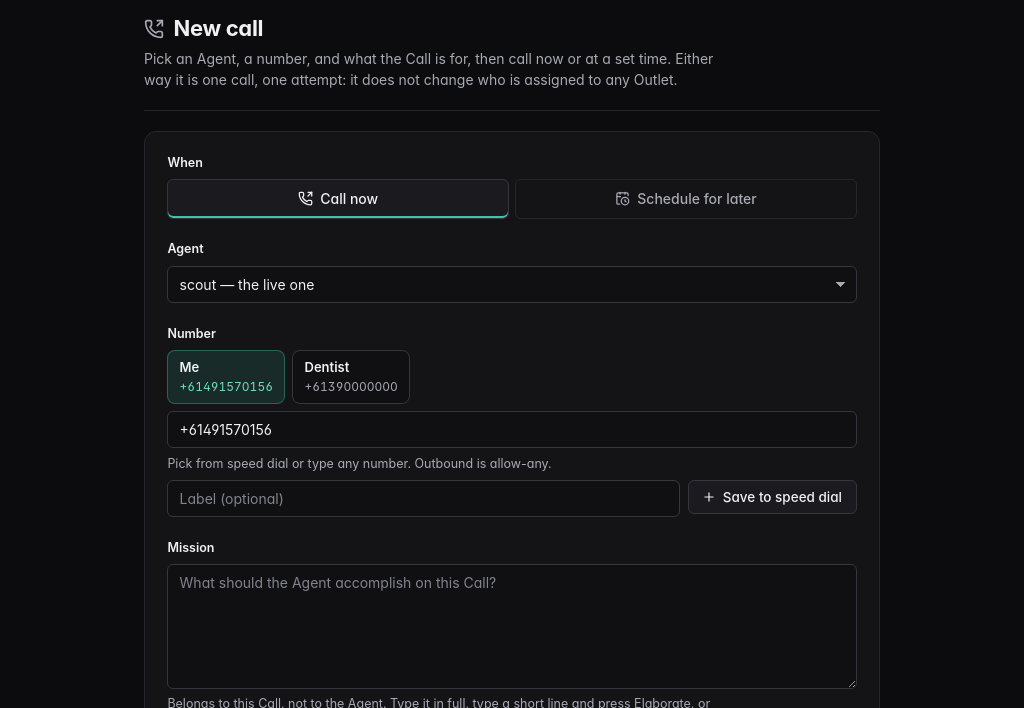
Scenario: Place a call › posts Agent, number, Mission and disclose, and does not mention a dry-run
Select "scout — the live one" in the dropdown with test id "place-agent" at (512, 284), box [167,266,857,303]
Click the button with test id "speed-dial-+61390000000" at (351, 377), box [292,350,410,404]
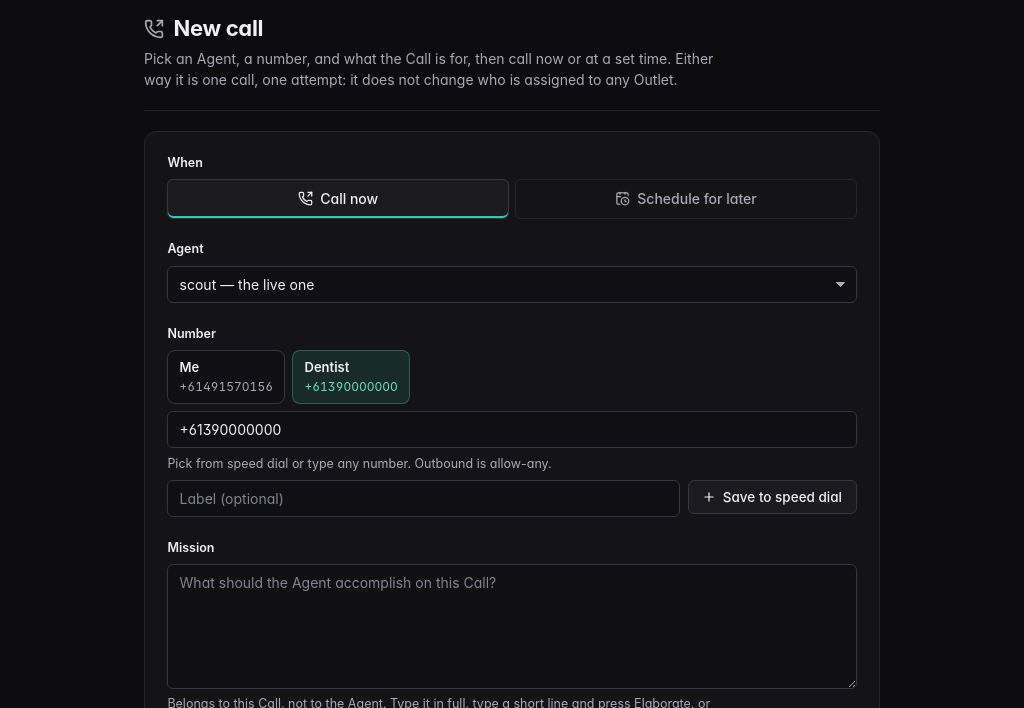
Type "Ask if Friday still works." into the text box with test id "place-mission" at (512, 626), box [167,564,857,689]
(page scrolled)
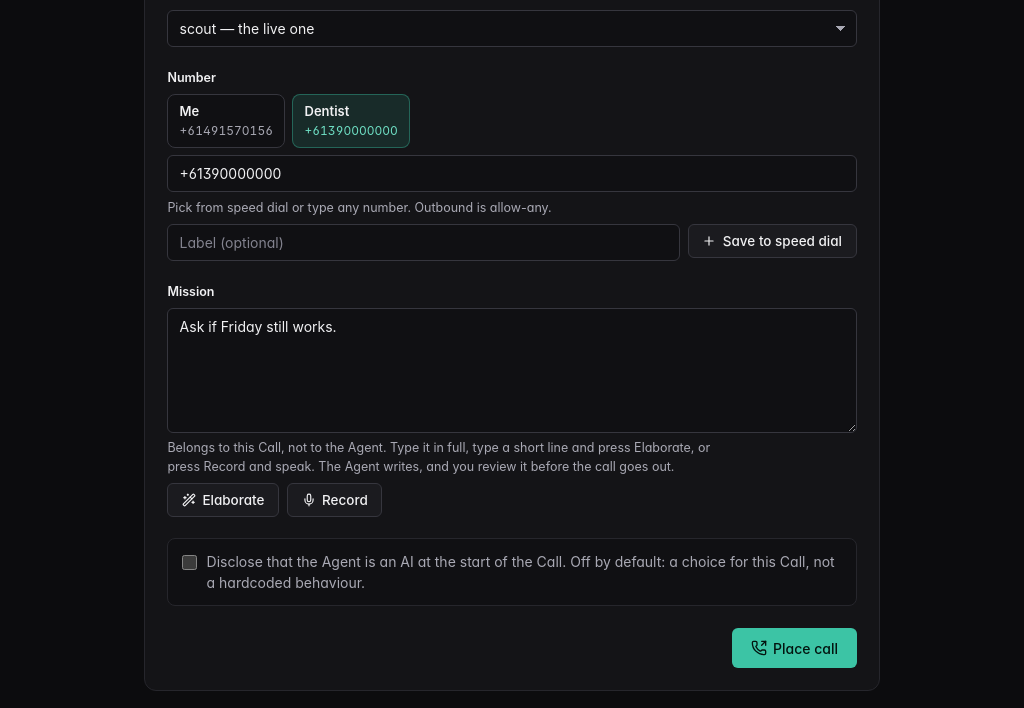
Click the checkbox labelled "Disclose that the Agent is an AI" at (190, 562), box [182,555,197,570]
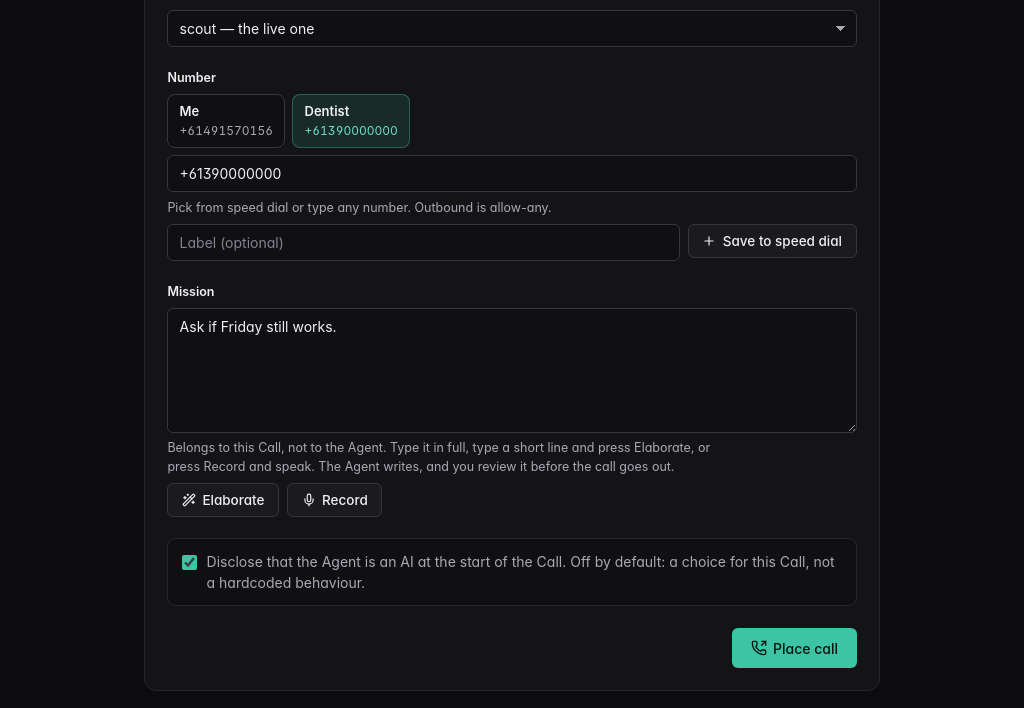
Click the button with test id "place-submit" at (794, 648), box [732,628,857,668]
(page scrolled)
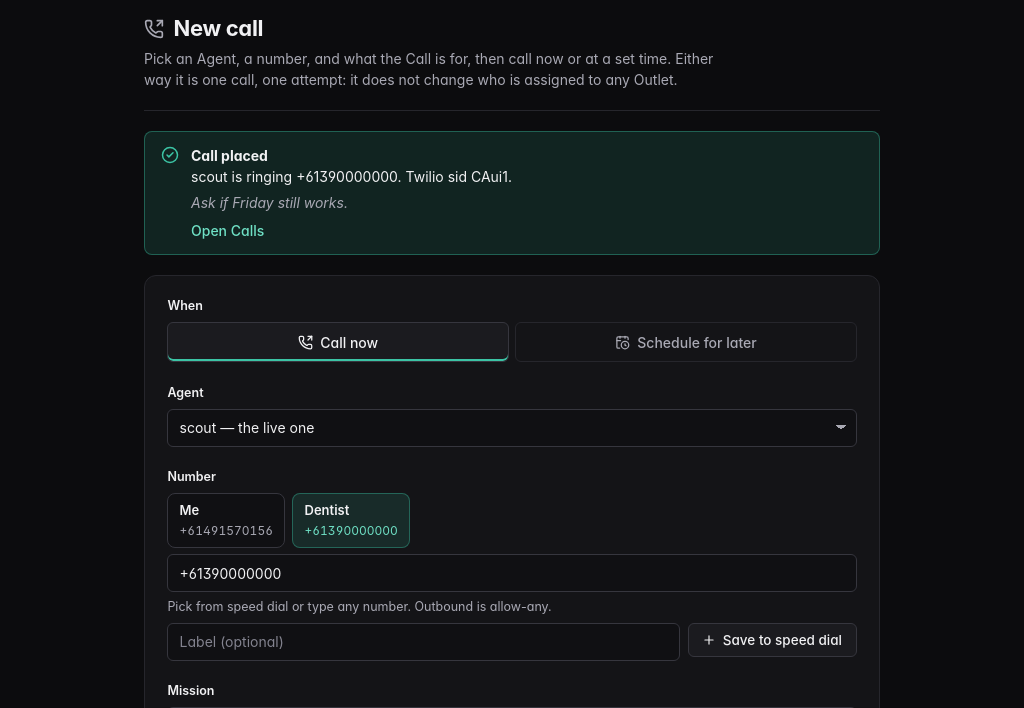
Expected: the element with test id "place-success" is shown, [144,131,880,255]
Expected: the element with test id "place-success" shows "Ask if Friday still works.", [191,194,348,212]
